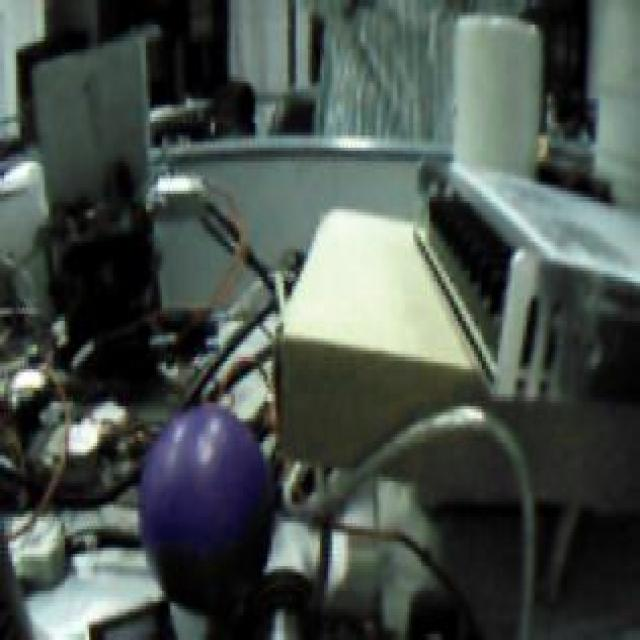BallPurple: (140, 409, 275, 615)
